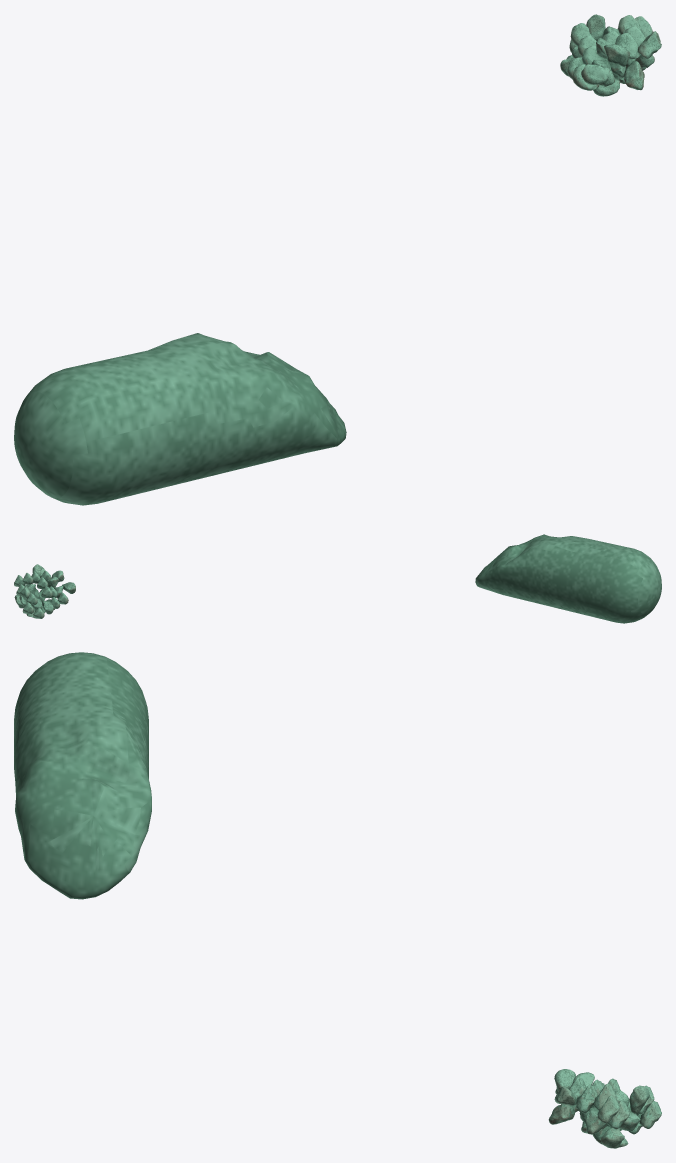
The model's file is FeSo and Copper Carbonate.fbx.
3 views of the same model, one above another, from view 1: azimuth 30°, elevation 25°; view 2: azimuth 150°, elevation 25°; view 3: azimuth 270°, elevation 25° (orthographic). The views are drawn at different scales.
Parts seen in each view (by area): view 1: Copper Carbonate, FeSO; view 2: Copper Carbonate, FeSO; view 3: Copper Carbonate, FeSO.
Boxes of the visible parts, bbox=[...] form: Copper Carbonate: bbox=[14, 333, 346, 505]; FeSO: bbox=[560, 14, 661, 96]; Copper Carbonate: bbox=[475, 534, 661, 623]; FeSO: bbox=[14, 564, 75, 618]; Copper Carbonate: bbox=[14, 652, 151, 899]; FeSO: bbox=[548, 1069, 661, 1148].
Size of the model in its own units: 23.67 by 3.17 by 15.23.
